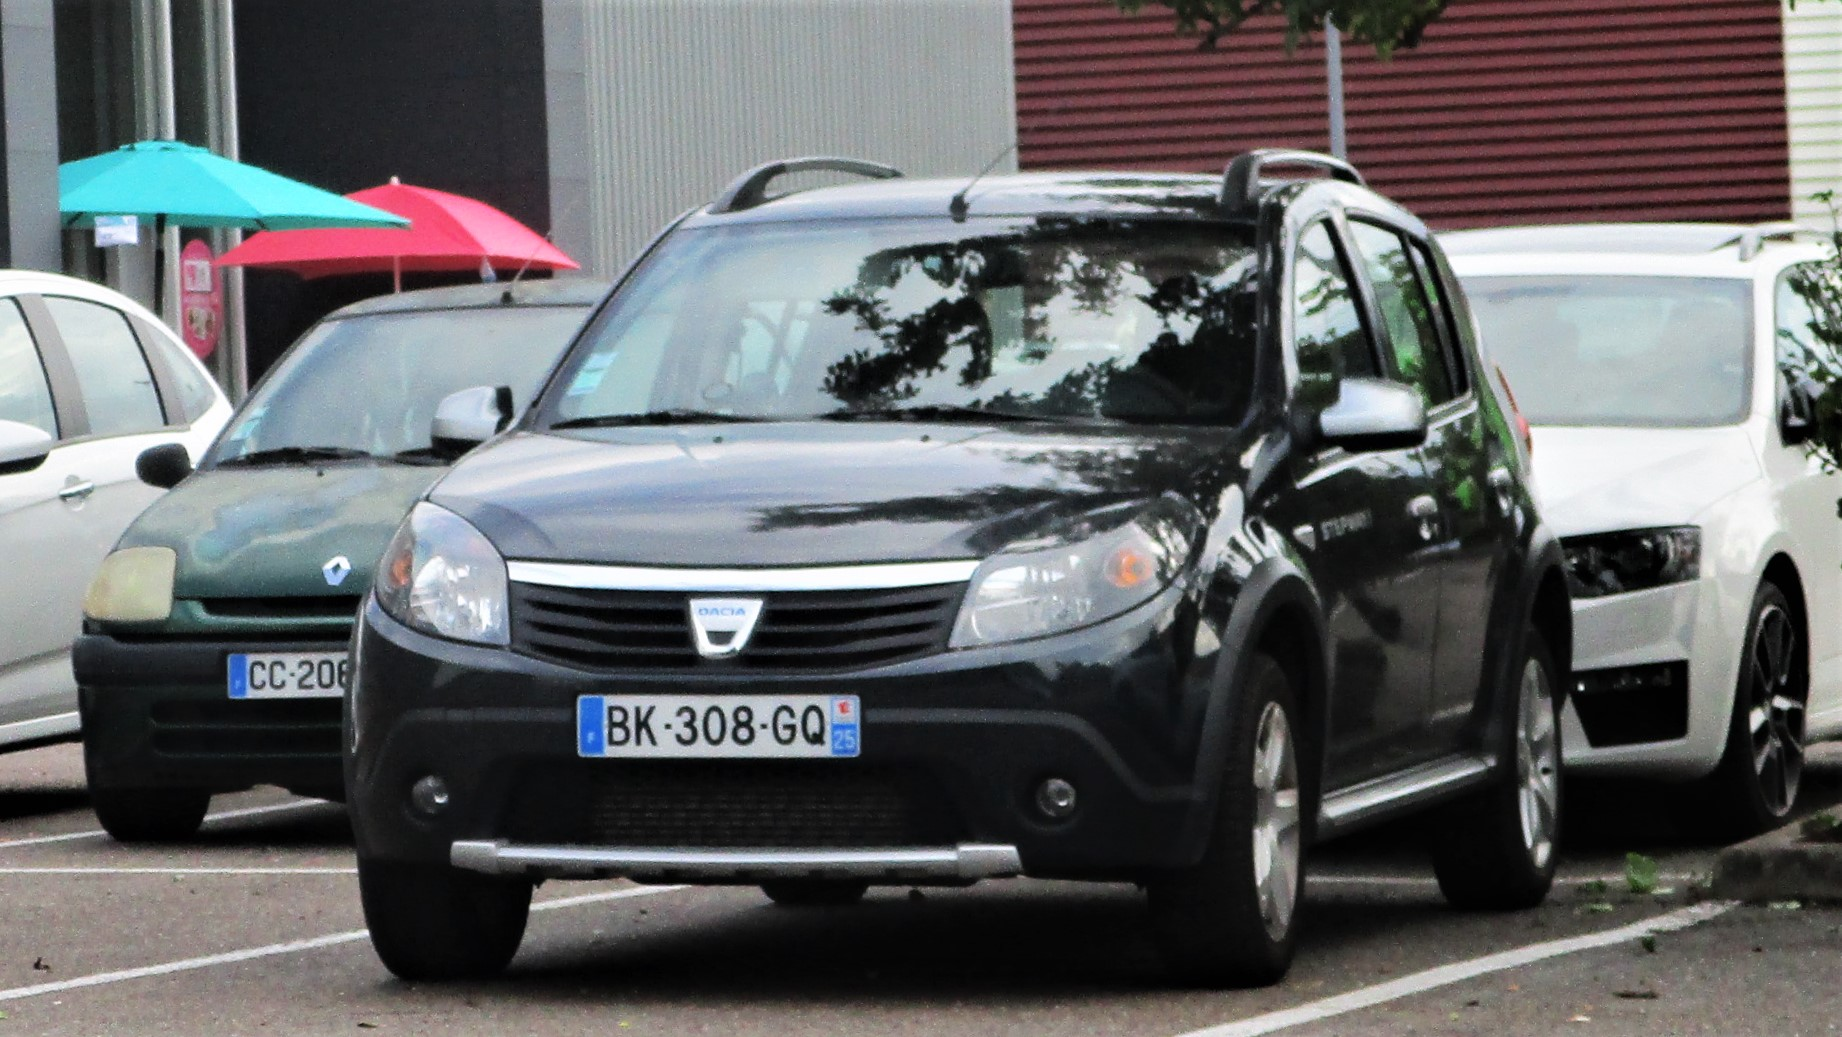licence plate: (567, 687, 867, 763)
